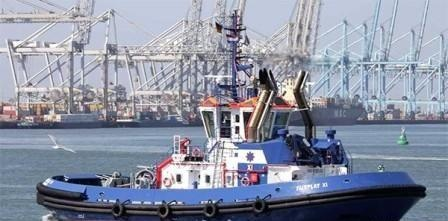otherboat: (31, 83, 424, 216)
